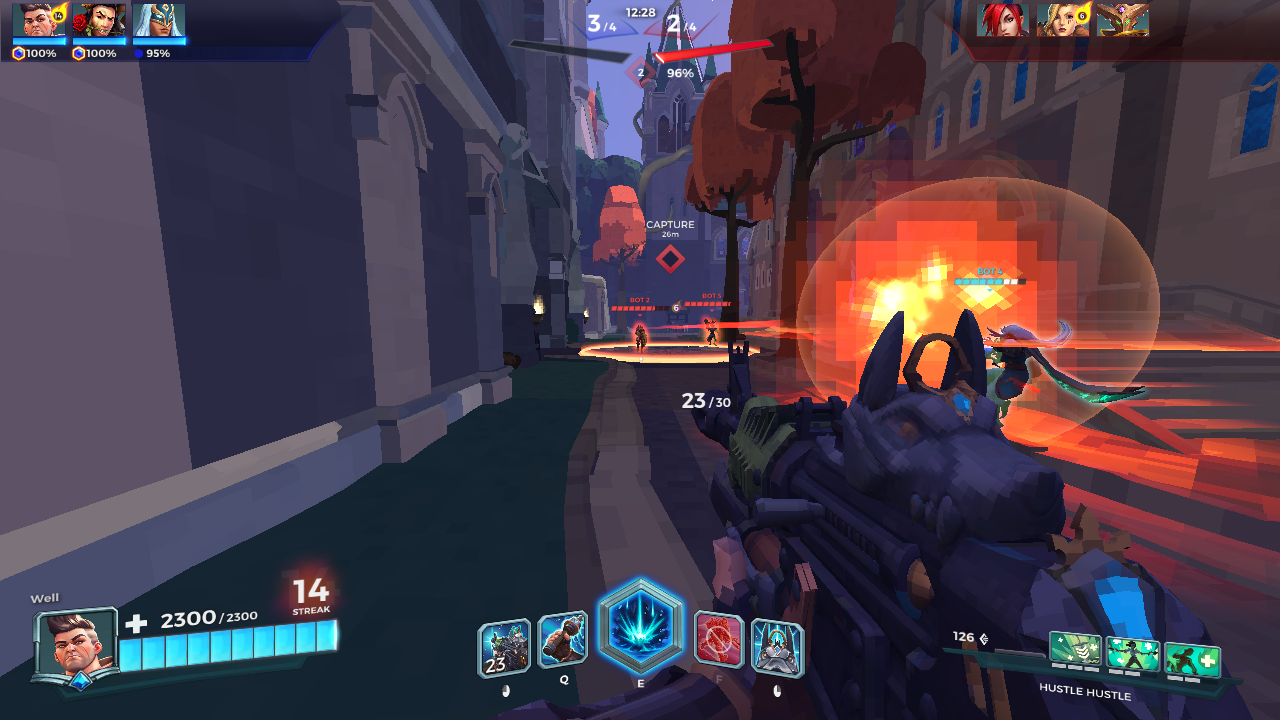model: (632, 319, 652, 359), (698, 315, 720, 350)
